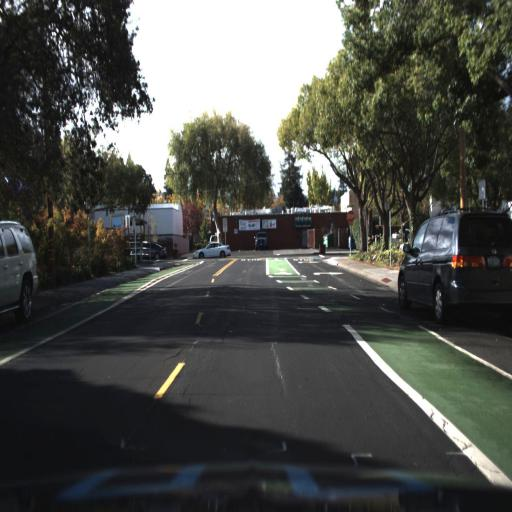car: (399, 197, 511, 326), (0, 216, 40, 328), (190, 240, 233, 258), (134, 236, 166, 260), (136, 237, 166, 262), (192, 240, 231, 258), (253, 229, 270, 254), (254, 230, 272, 251)
